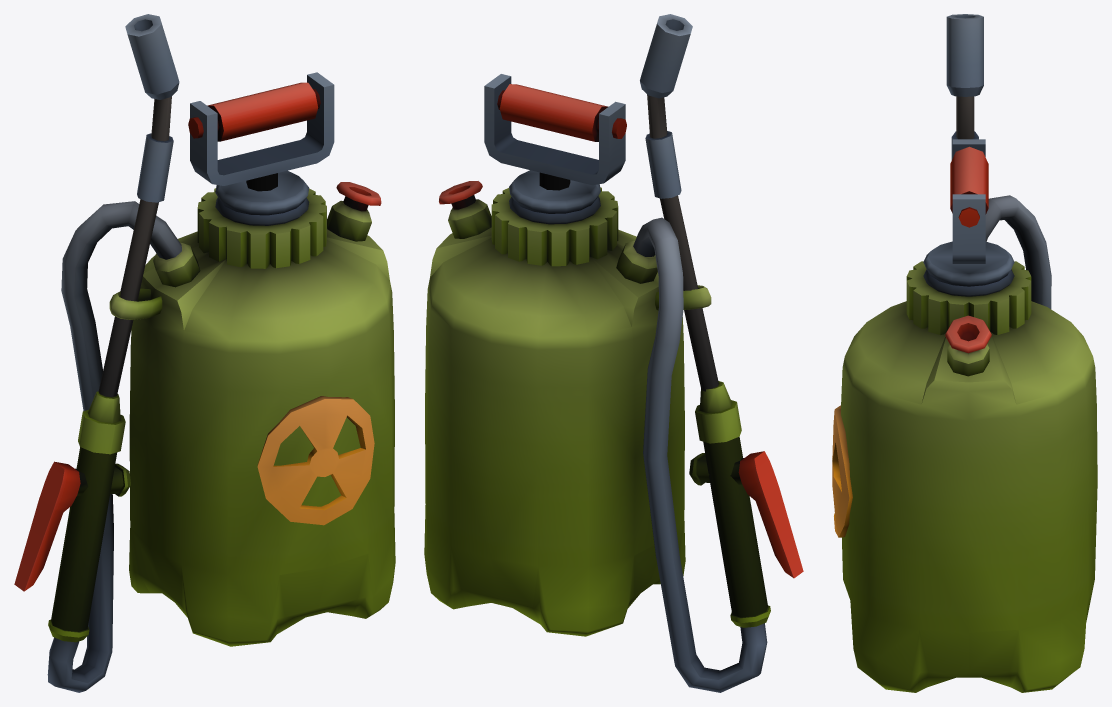
File: Back_Insecticide_Bottle.gltf
3 views of the same model, side by side, from view 1: azimuth 30°, elevation 25°; view 2: azimuth 150°, elevation 25°; view 3: azimuth 270°, elevation 25° (orthographic). The views are drawn at different scales.
Visible parts, largest first — view 1: Back_Insecticide_Bottle; view 2: Back_Insecticide_Bottle; view 3: Back_Insecticide_Bottle.
Part boxes in pixels (x1,y1,x2,y2): Back_Insecticide_Bottle: (14, 14, 395, 692); Back_Insecticide_Bottle: (424, 14, 803, 692); Back_Insecticide_Bottle: (832, 14, 1097, 692).
Bounding box in the file's own units: 0.6693 × 1.17 × 0.4407.
Materials: 2 (2 with a texture image).
